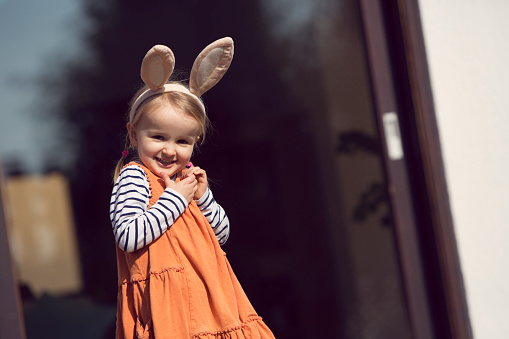em pe: (89, 84, 278, 339)
